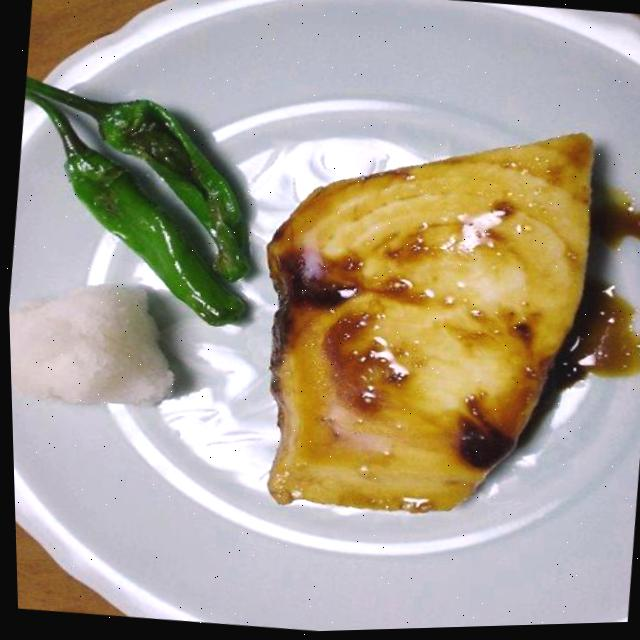熟制海鲜: (224, 85, 620, 559)
